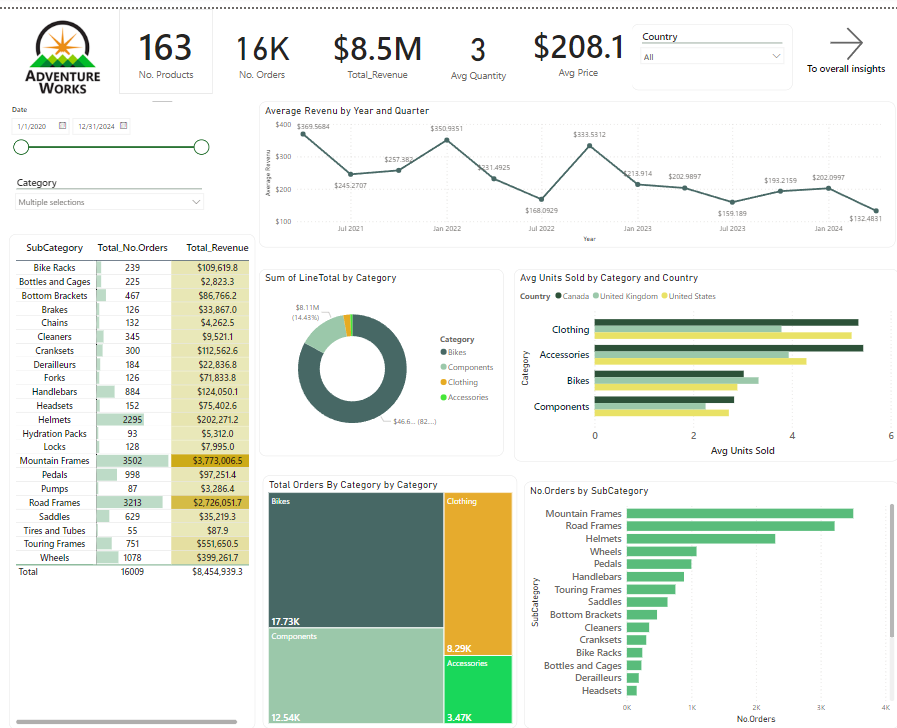

This screenshot's page, from the dashboard's own definition file:
{"tool":"powerbi","page":{"name":"Product","canvas":[1500,1200],"ordinal":2},"visuals":[{"type":"treemap","fields":{"Group":["ProductInfo.Category"],"Values":["CountNonNull(FactSales.ProductKey)"]},"box":[439.7,777.6,424.1,422.4],"z":0},{"type":"image","box":[0,6.1,211.6,148],"z":1000},{"type":"card","fields":{"Values":["CountNonNull(ProductInfo.ProductKey)"]},"box":[200,0,156.9,141.4],"z":2000},{"type":"barChart","fields":{"Category":["ProductInfo.SubCategory"],"Y":["CountNonNull(FactSales.ProductKey)"]},"box":[874.1,787.9,625.9,412.1],"z":3000},{"type":"card","fields":{"Values":["CountNonNull(FactSales.SalesOrderID)"]},"box":[356.9,0,163.8,141.4],"z":4000},{"type":"card","fields":{"Values":["Sum(FactSales.LineTotal)"]},"box":[520.7,6.9,220.7,134.5],"z":5000},{"type":"tableEx","fields":{"Values":["ProductInfo.SubCategory","CountNonNull(FactSales.SalesOrderID)","Sum(FactSales.LineTotal)"]},"box":[16,374,410,826],"z":6000},{"type":"slicer","fields":{"Values":["CustomerInfo.Country"]},"box":[1055.2,24.1,269,110.3],"z":7000},{"type":"slicer","fields":{"Values":["Date.Date"]},"box":[8.6,155.2,350,117.2],"z":8000},{"type":"card","fields":{"Values":["Avg(FactSales.UnitPrice)"]},"box":[874.1,0,181,141.4],"z":9000},{"type":"card","fields":{"Values":["Avg(FactSales.Quantity)"]},"box":[725.9,3.4,148.3,134.5],"z":10000},{"type":"actionButton","box":[1323.3,10,176.7,110],"z":11000},{"type":"clusteredBarChart","fields":{"Category":["ProductInfo.Category"],"Series":["CustomerInfo.Country"],"Y":["Avg(FactSales.Quantity)"]},"box":[858.6,432.8,641.4,320.7],"z":12000},{"type":"slicer","fields":{"Values":["ProductInfo.Category"]},"box":[17.2,272.4,334.5,89.7],"z":13000},{"type":"lineChart","fields":{"Category":["FactSales.OrderDate.Variation.Date Hierarchy.Year","FactSales.OrderDate.Variation.Date Hierarchy.Quarter"],"Y":["FactSales.Average Selling Price"]},"box":[434,155,1061,243],"z":14000},{"type":"donutChart","fields":{"Category":["ProductInfo.Category"],"Y":["Sum(FactSales.LineTotal)"]},"box":[434,433,408,312],"z":15000}]}

Visuals, with their boxes in screenshot pixels (x1, y1, x2, y2), scaled from the page's 1500x1200 canvas onto the 897x728 screenshot:
treemap - ProductInfo.Category x CountNonNull(FactSales.ProductKey): crop(263, 472, 517, 727)
image: crop(0, 4, 127, 93)
card - CountNonNull(ProductInfo.ProductKey): crop(120, 0, 213, 86)
barChart - ProductInfo.SubCategory x CountNonNull(FactSales.ProductKey): crop(523, 478, 896, 727)
card - CountNonNull(FactSales.SalesOrderID): crop(213, 0, 311, 86)
card - Sum(FactSales.LineTotal): crop(311, 4, 443, 86)
tableEx - ProductInfo.SubCategory x CountNonNull(FactSales.SalesOrderID): crop(10, 227, 255, 727)
slicer - CustomerInfo.Country: crop(631, 15, 792, 82)
slicer - Date.Date: crop(5, 94, 214, 165)
card - Avg(FactSales.UnitPrice): crop(523, 0, 631, 86)
card - Avg(FactSales.Quantity): crop(434, 2, 523, 84)
actionButton: crop(791, 6, 896, 73)
clusteredBarChart - ProductInfo.Category x CustomerInfo.Country: crop(513, 263, 896, 457)
slicer - ProductInfo.Category: crop(10, 165, 210, 220)
lineChart - FactSales.OrderDate.Variation.Date Hierarchy.Year x FactSales.OrderDate.Variation.Date Hierarchy.Quarter: crop(260, 94, 894, 241)
donutChart - ProductInfo.Category x Sum(FactSales.LineTotal): crop(260, 263, 504, 452)
